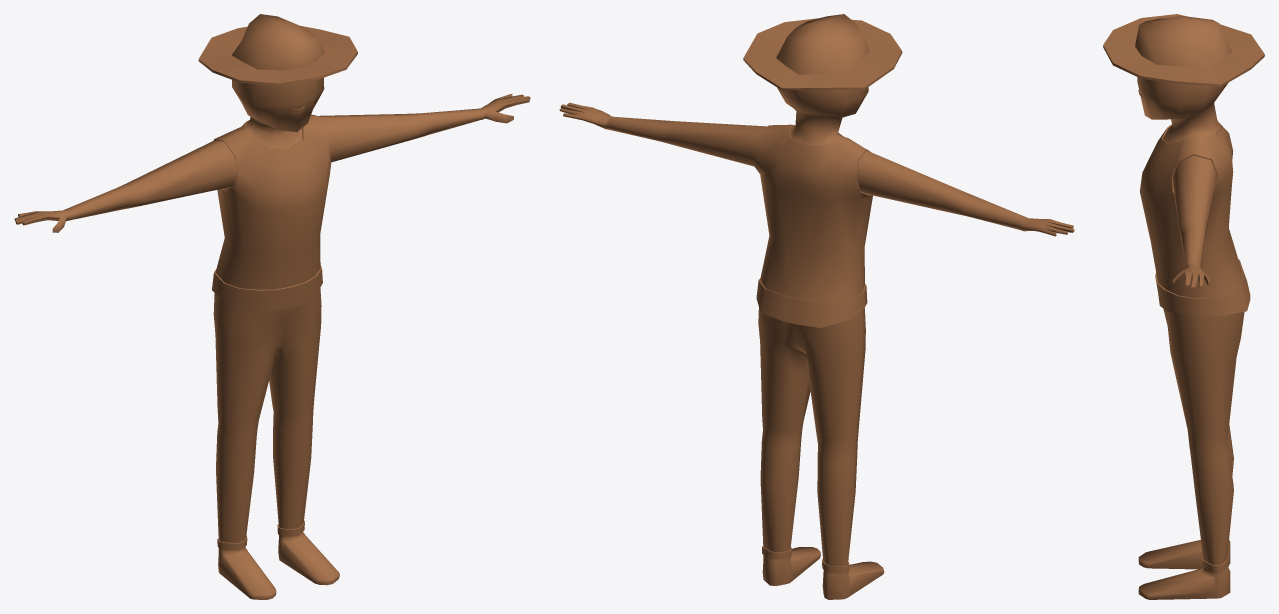
3 renders of one model, left to right at view 1: azimuth 30°, elevation 25°; view 2: azimuth 150°, elevation 25°; view 3: azimuth 270°, elevation 25°, orthographic.
Visible parts, largest first — view 1: Cube006; view 2: Cube006; view 3: Cube006.
Boxes of the visible parts, x1,y1,x2,y2 form: Cube006: (14,14,530,599); Cube006: (559,14,1074,599); Cube006: (1103,14,1264,599).
Bounding box in the file's own units: 111 × 115 × 30.09.
